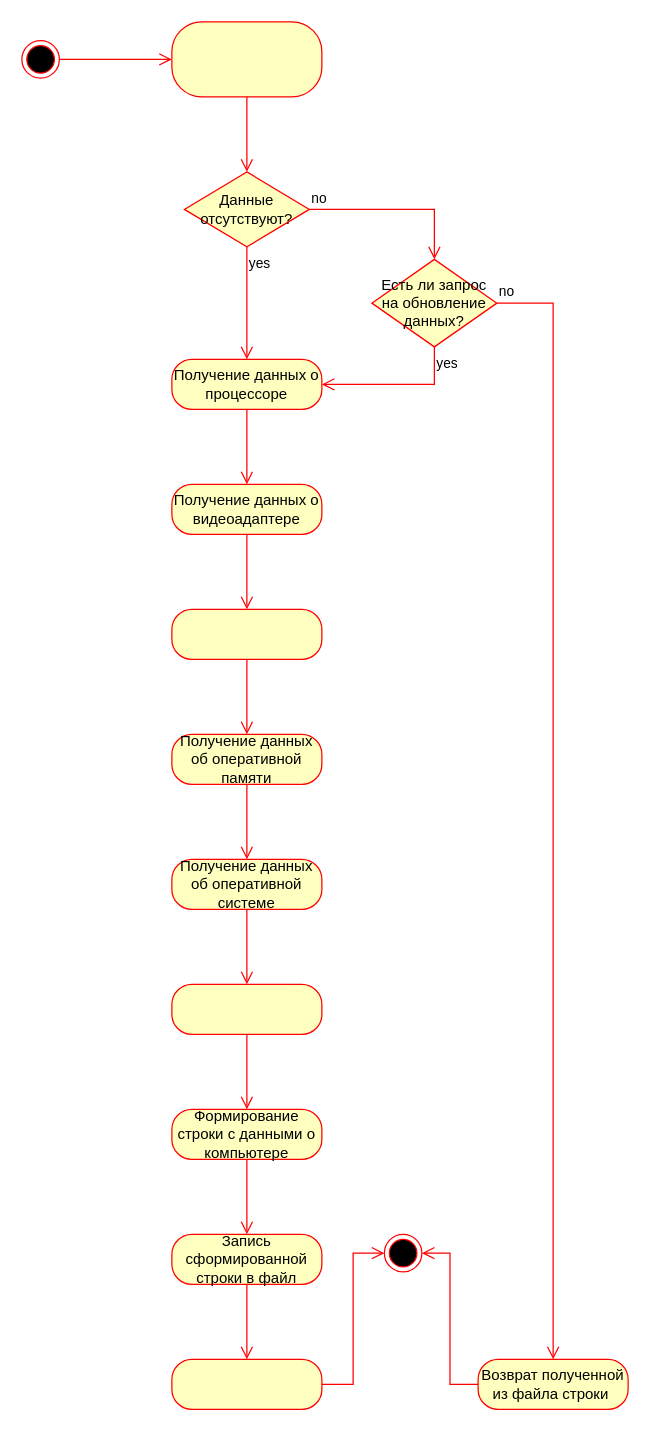
Image size: 650x1433. Some labels were removed from this diagram. The shapes that lost their labels are listed below. From the top down, each one's centre as x and y in pixels, then its label:
At point 246,59: "Чтение файла с аппартной конфигураций компьютера".
At point 246,633: "Получение данных о хранилищах памяти".
At point 246,1008: "Получение данных о версии DirectX".
At point 246,1383: "Возврат сформированной строки".
